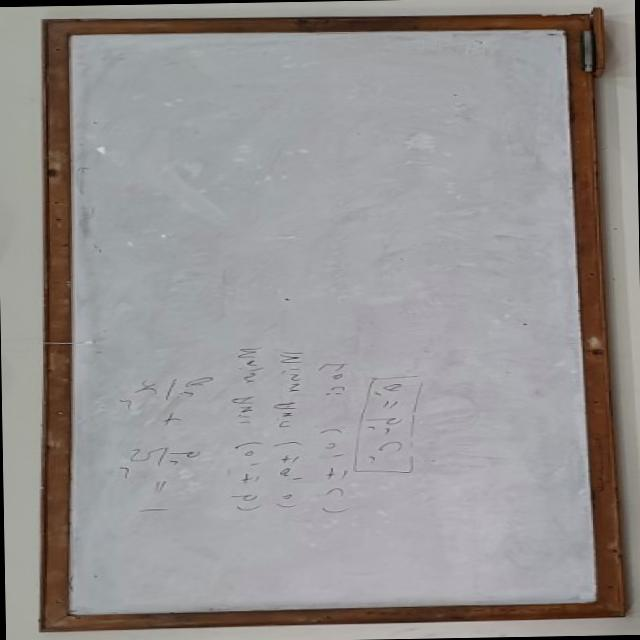White-board: (55, 19, 617, 623)
